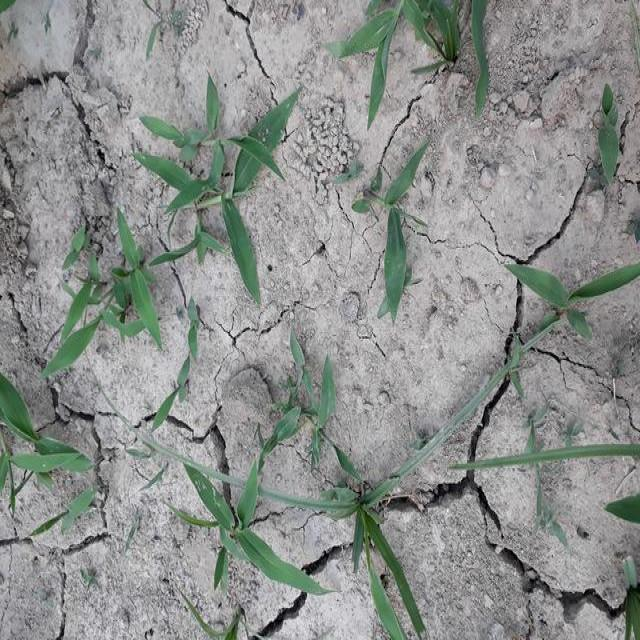weed: (182, 344, 408, 621), (135, 77, 289, 300), (331, 0, 512, 127)
